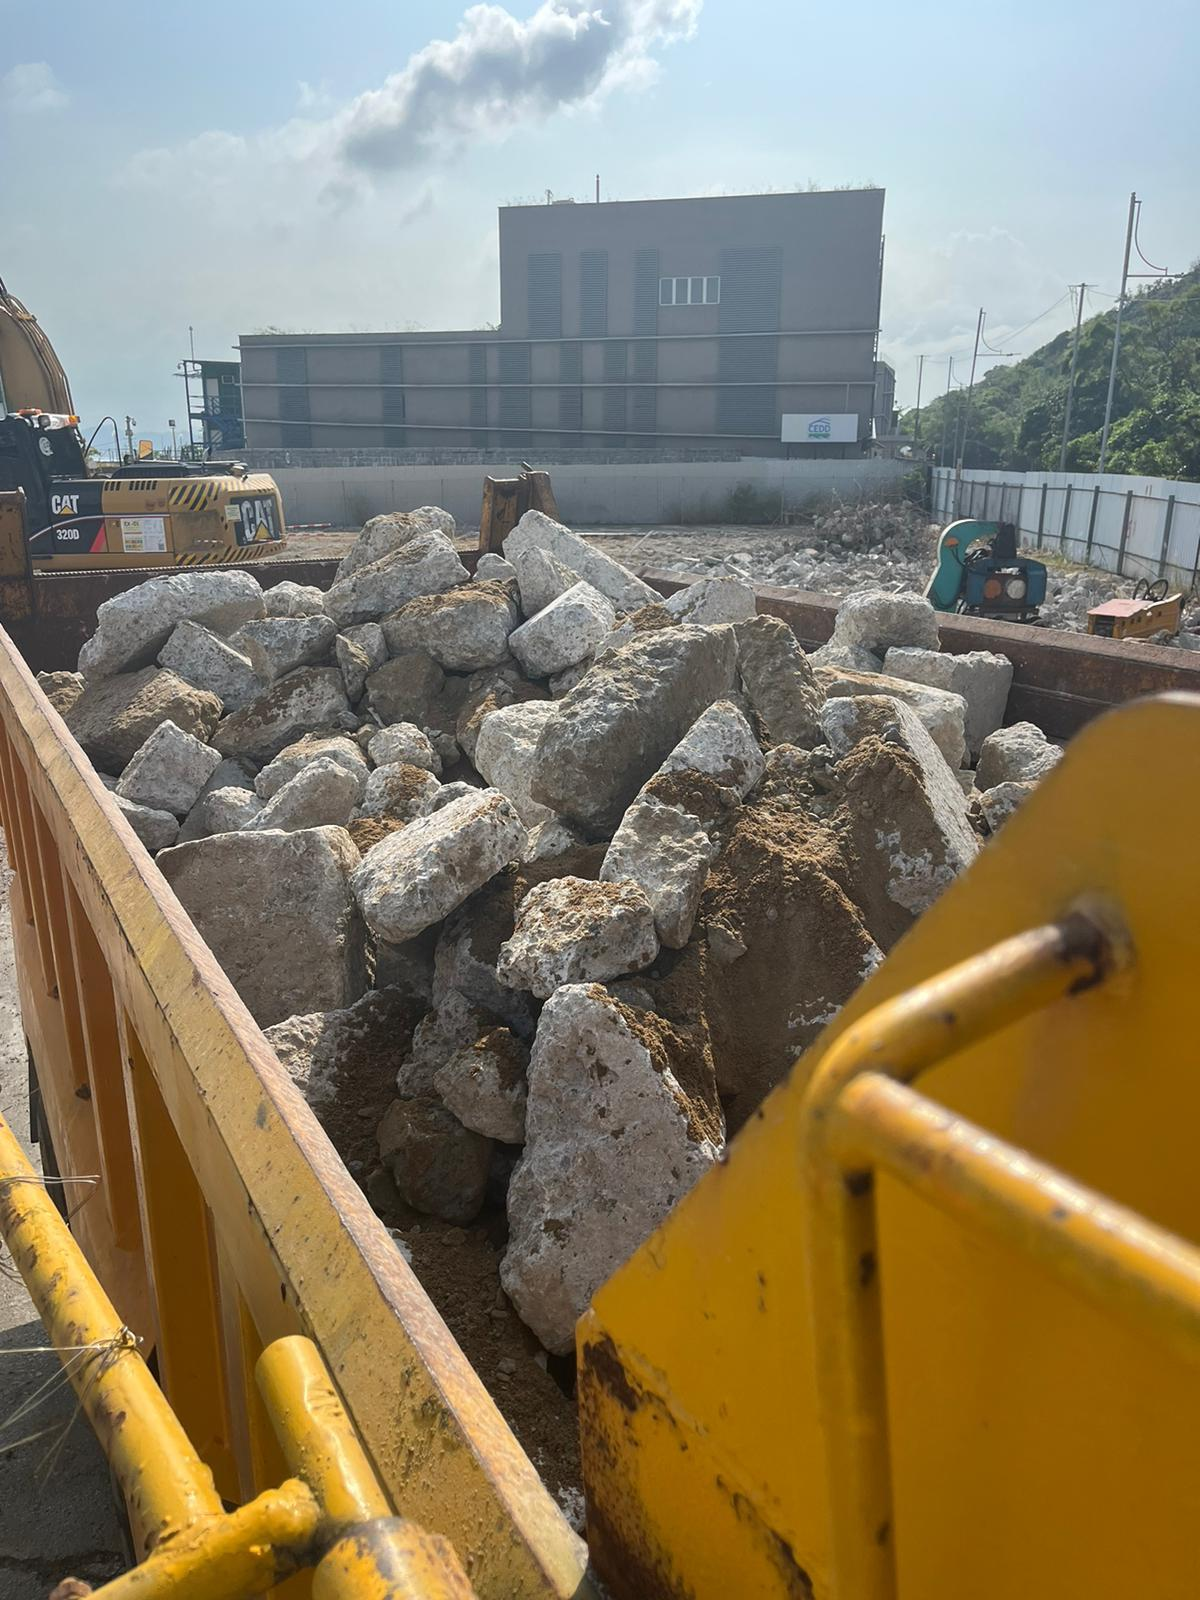dry: (35, 540, 1083, 1330)
